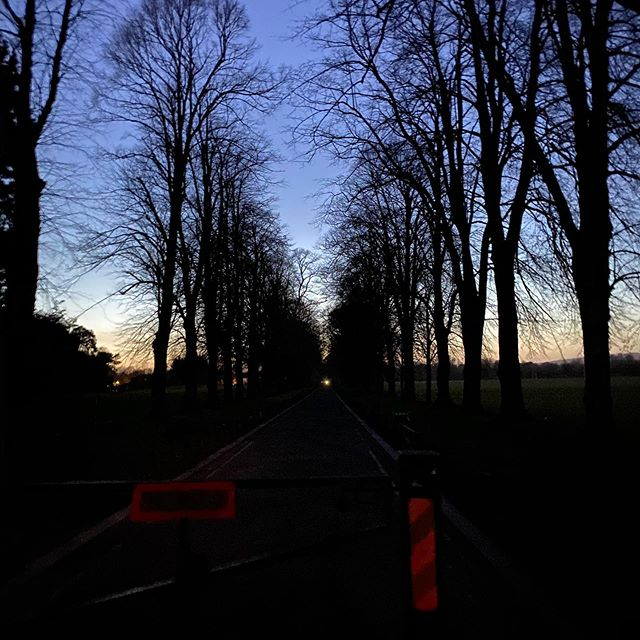street: (17, 389, 453, 640)
vegetation: (1, 1, 317, 368), (344, 1, 640, 357)
